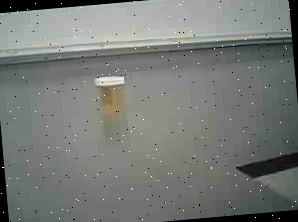Bottle B: (87, 69, 139, 127)
